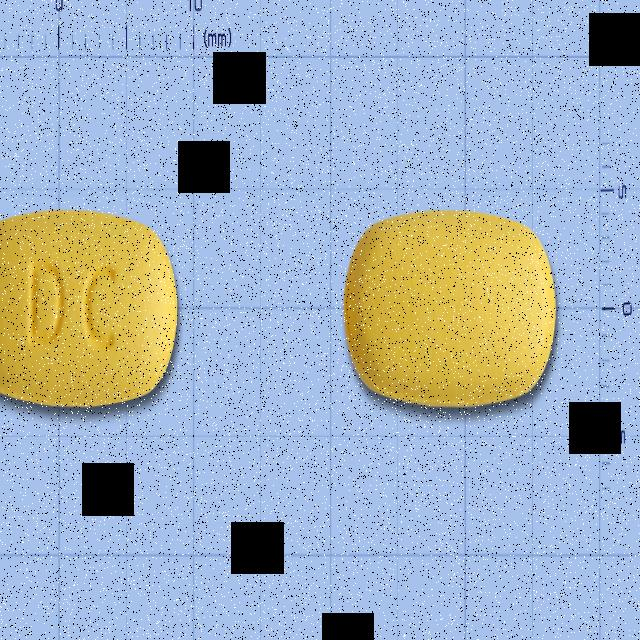Clabicks: (0, 206, 184, 416)
